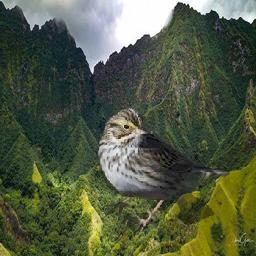Sparrow: (96, 106, 230, 232)
